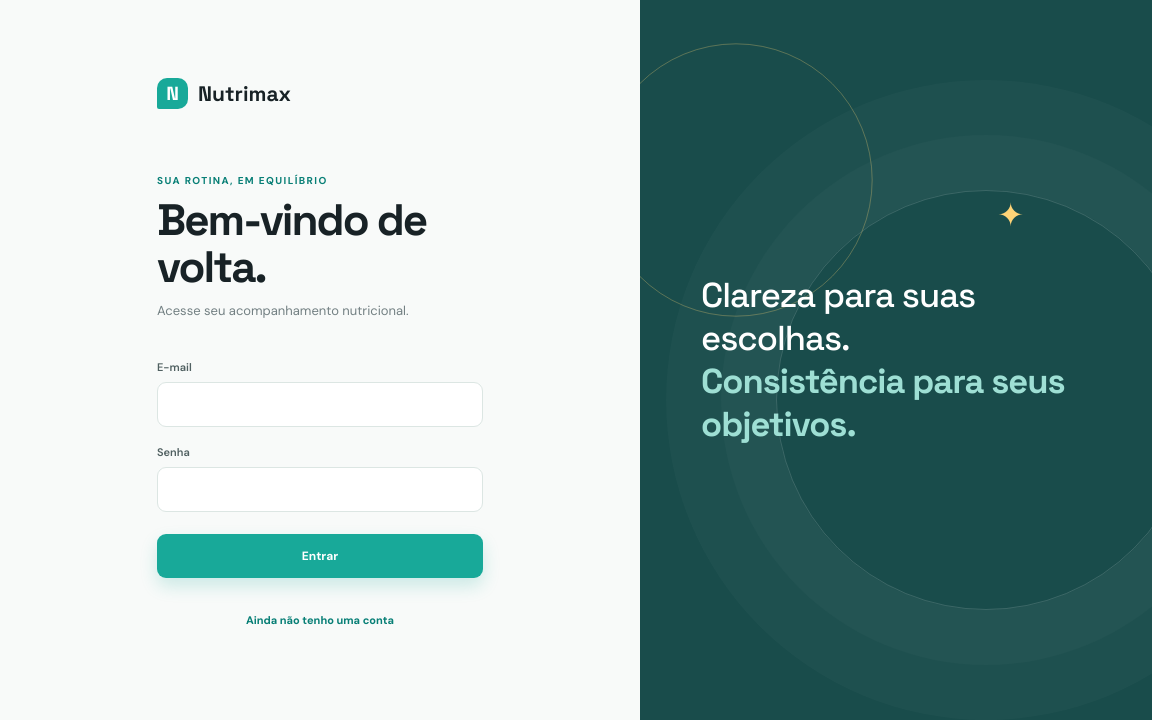
Login › exibe erro retornado pela API
This screenshot has width=1152, height=720.
Type "user@example.com" into the field labelled "E-mail". click: (320, 405)
box: [157,382,483,427]
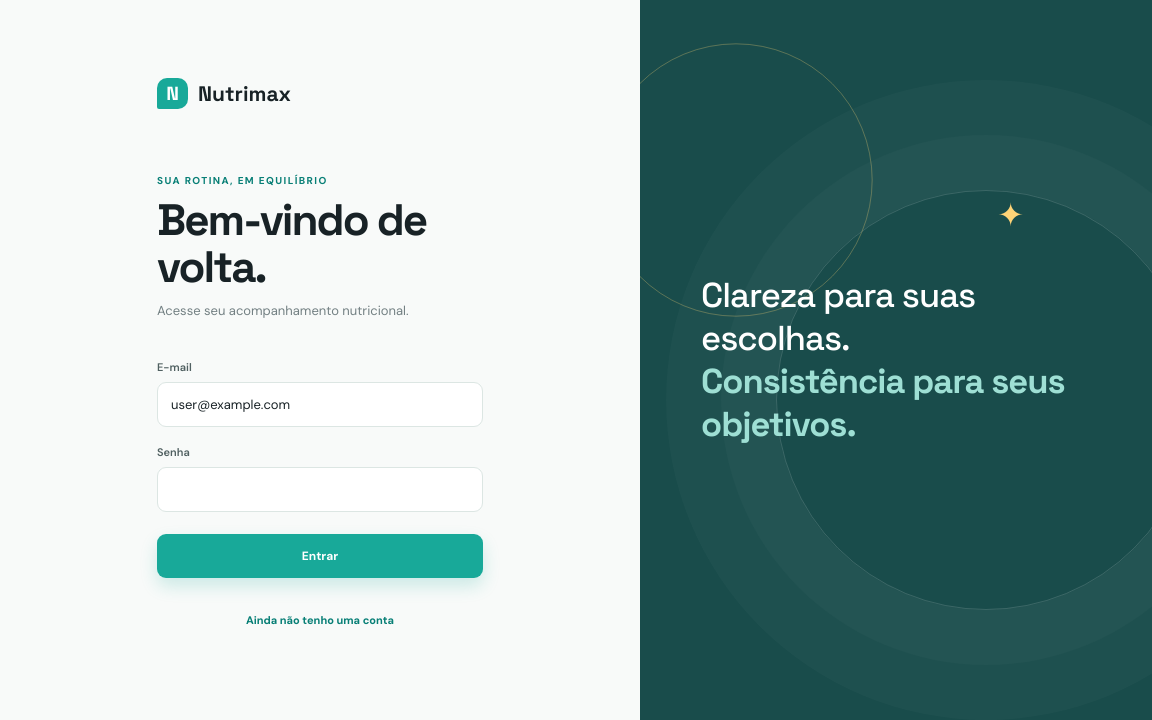
Type "StrongPassword123" into the password field labelled "Senha". click: (320, 490)
box: [157,467,483,512]
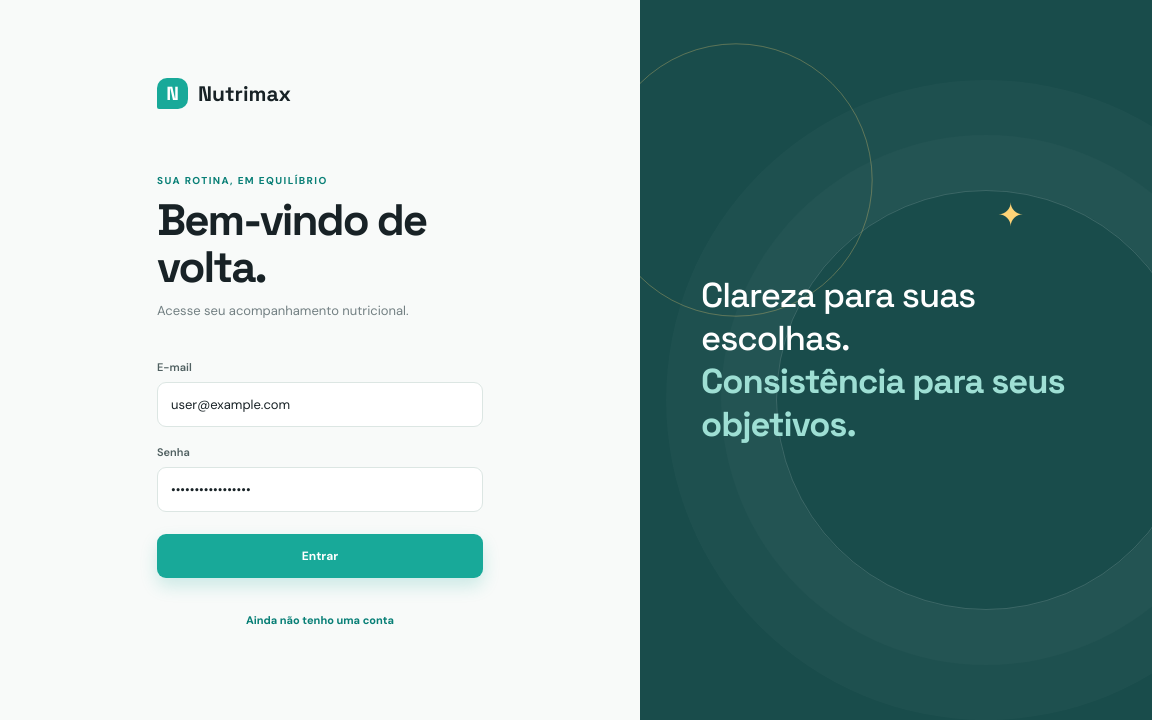
Click the button "Entrar". click: (320, 556)
box: [157,534,483,578]
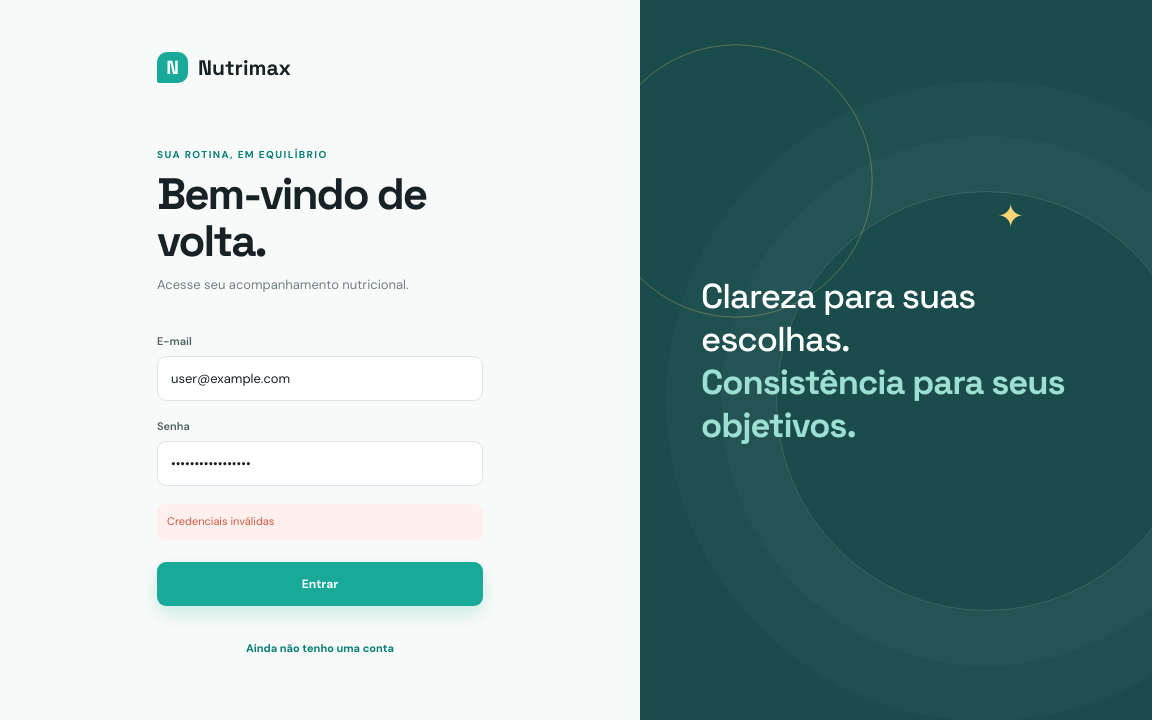
Result: the message reads "Credenciais inválidas" at [167,514,274,528]
